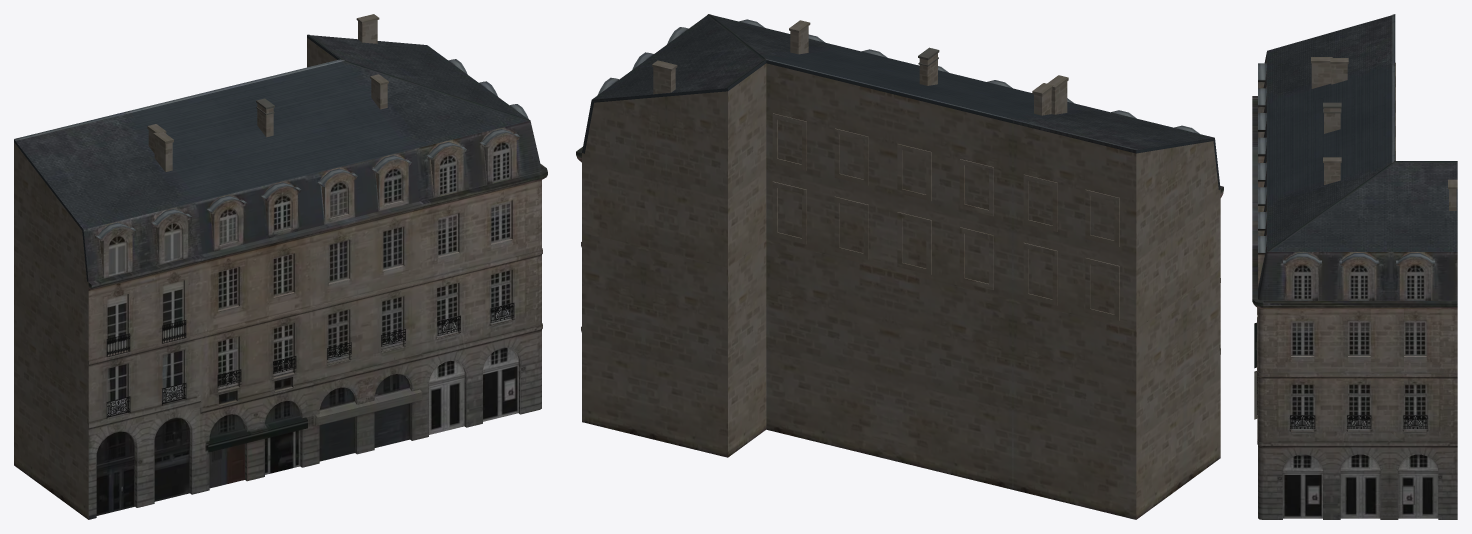
The model's file is corner-a.glb.
The picture shows the model from 3 angles, left to right: view 1: azimuth 30°, elevation 25°; view 2: azimuth 150°, elevation 25°; view 3: azimuth 270°, elevation 25°; orthographic projection. The views are drawn at different scales.
Visible parts, largest first — view 1: 1.002_1_0; view 2: 1.002_1_0; view 3: 1.002_1_0.
Boxes of the visible parts, <box> form: 1.002_1_0: <box>14,14,547,519</box>; 1.002_1_0: <box>576,14,1223,519</box>; 1.002_1_0: <box>1252,14,1457,519</box>.
Bounding box in the file's own units: 26.8 × 18.58 × 11.21.
1 material, 1 textured.
